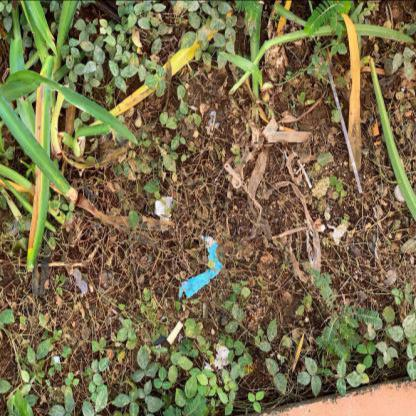Bottle: (394, 184, 405, 201)
Cigarette: (166, 321, 183, 345), (371, 120, 379, 135), (279, 125, 296, 130)
Other plastic: (72, 267, 88, 298), (224, 162, 241, 188)
Paper: (179, 236, 223, 298)
Plastic bag - wrapper: (155, 197, 173, 222)
Straw: (326, 64, 363, 193)
Unlabeled litter: (263, 116, 311, 142), (213, 338, 229, 370), (298, 159, 313, 188), (206, 112, 216, 135), (53, 357, 61, 363)
